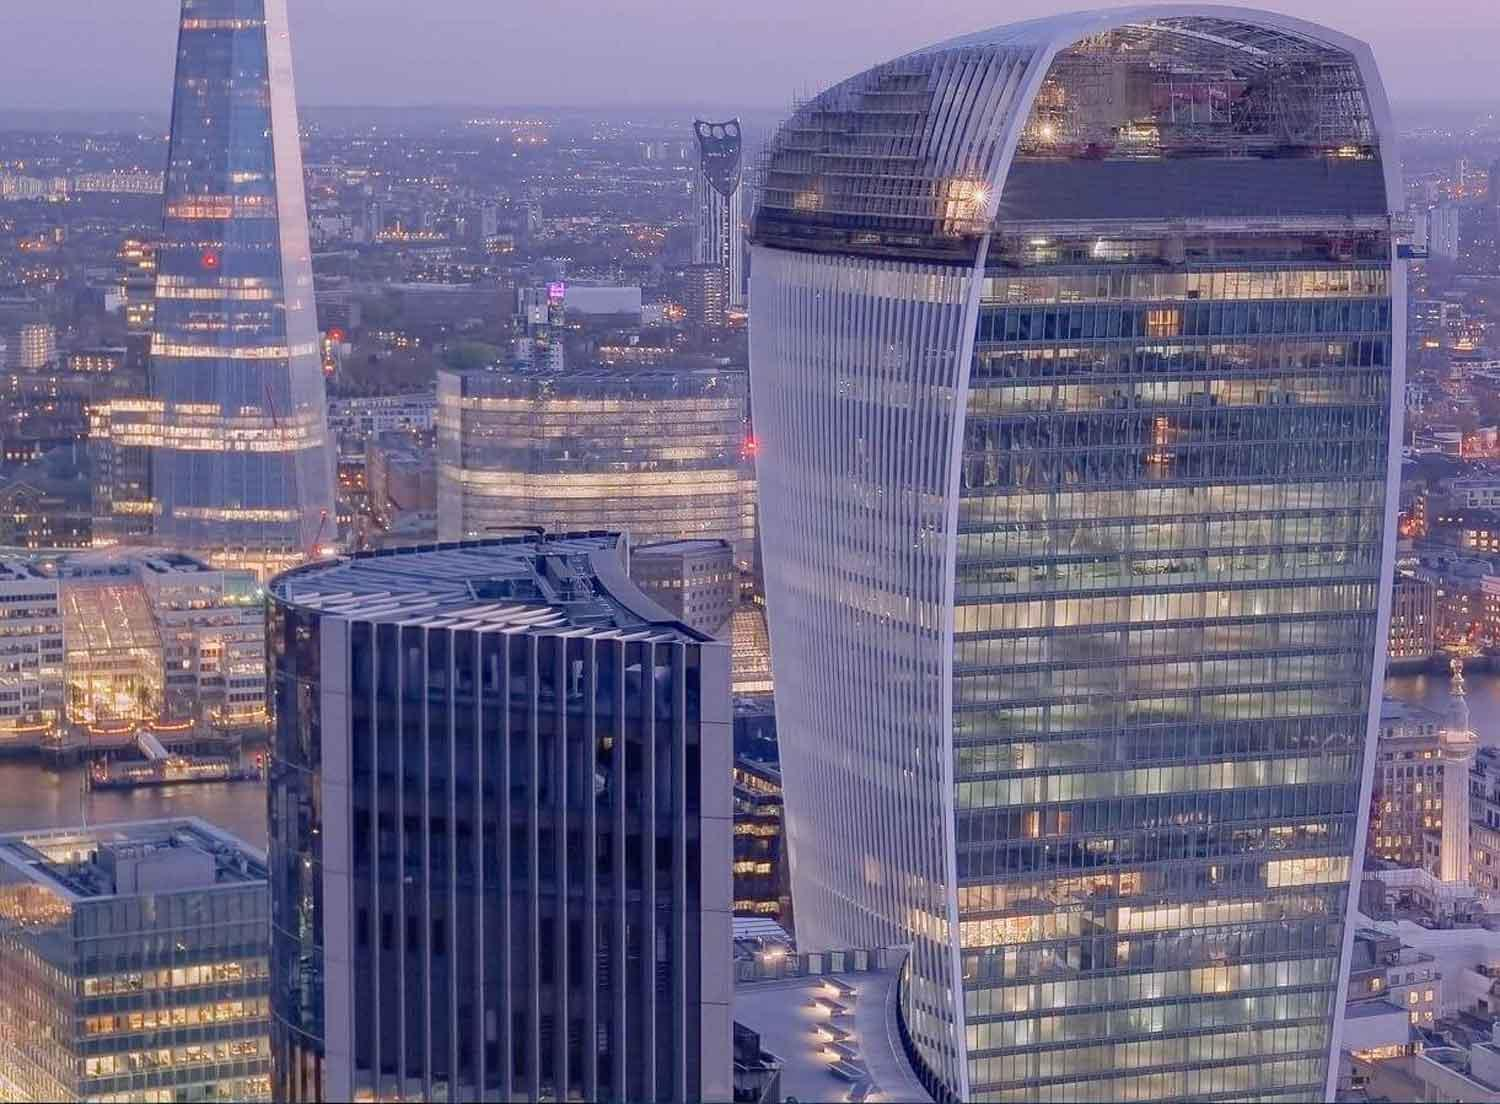Walkie talkie: (741, 0, 1417, 1062)
